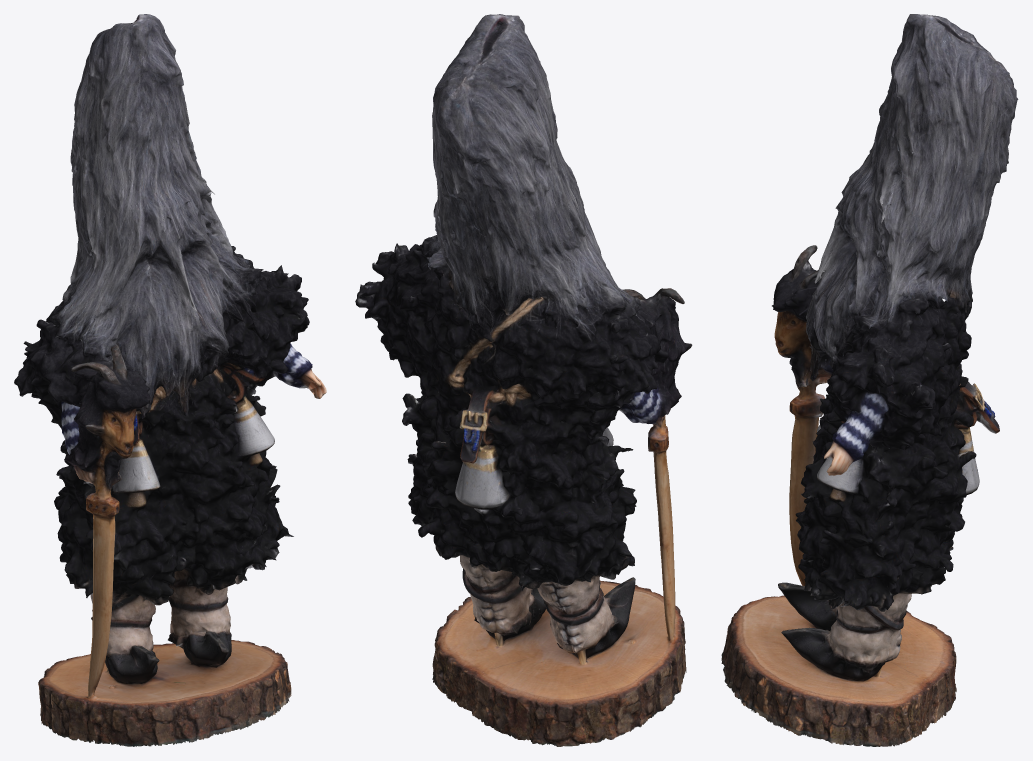
File: Doll.glb
3 renders of one model, left to right at view 1: azimuth 30°, elevation 25°; view 2: azimuth 150°, elevation 25°; view 3: azimuth 270°, elevation 25°, orthographic. The views are drawn at different scales.
Bounding box in the file's own units: 0.6866 × 1.61 × 0.6195.
Materials: 1 (1 with a texture image).
